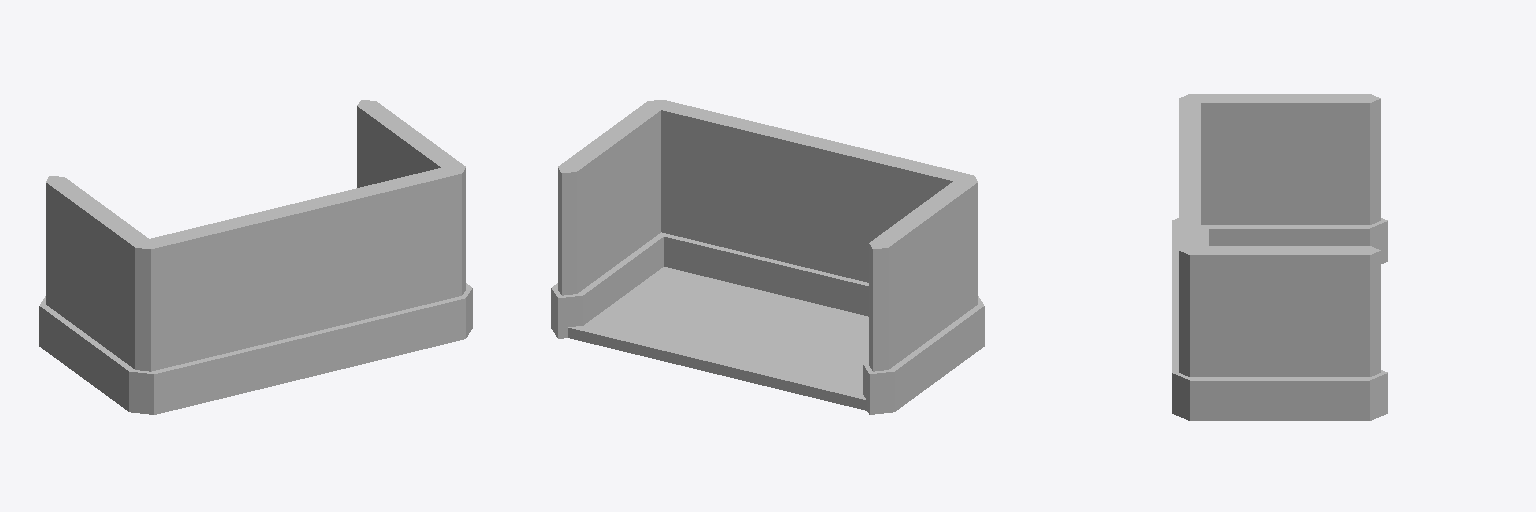
File: hallway_end_01.obj
3 renders of one model, left to right at view 1: azimuth 30°, elevation 25°; view 2: azimuth 150°, elevation 25°; view 3: azimuth 270°, elevation 25°, orthographic.
Visible parts, largest first — view 1: corner_01_78, corner_01_77; view 2: corner_01_77, corner_01_78, floor_04_76; view 3: corner_01_77, corner_01_78.
Part boxes in pixels (bbox=[...]): corner_01_78: bbox=[39, 176, 309, 414]; corner_01_77: bbox=[291, 100, 472, 376]; corner_01_77: bbox=[551, 100, 821, 338]; corner_01_78: bbox=[802, 138, 984, 414]; floor_04_76: bbox=[568, 267, 868, 410]; corner_01_77: bbox=[1172, 170, 1387, 420]; corner_01_78: bbox=[1172, 94, 1387, 299].
Bounding box in the file's own units: 2.21 × 1 × 1.21.